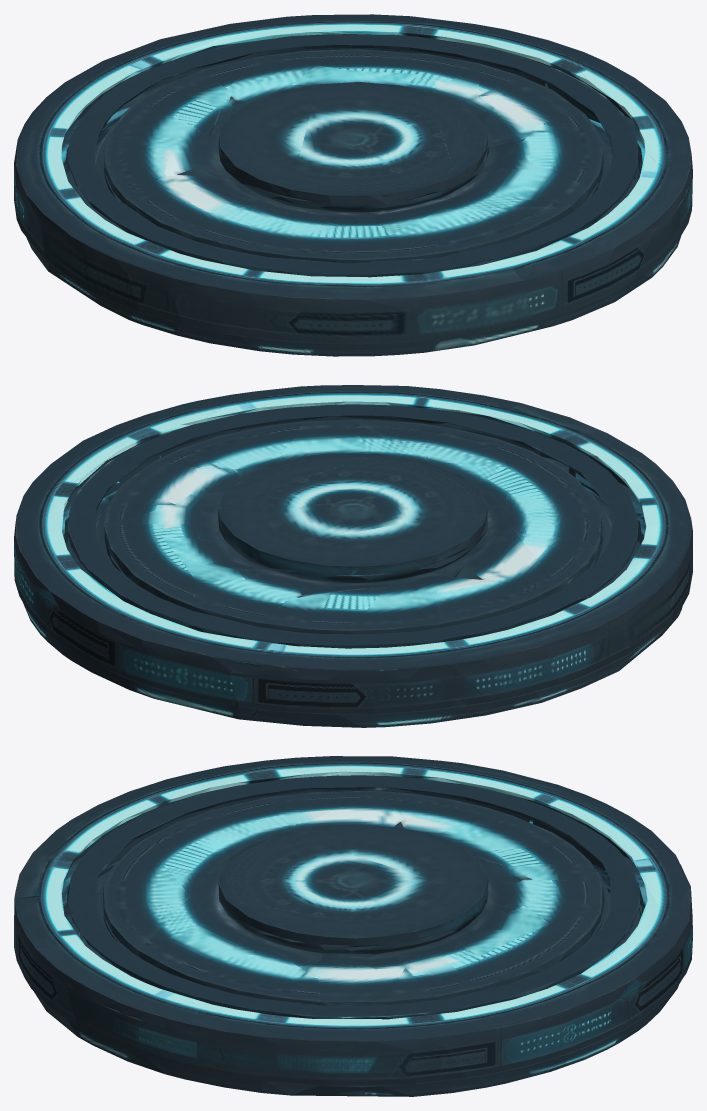
File: start-pad.glb
The picture shows the model from 3 angles, top to bottom: view 1: azimuth 30°, elevation 25°; view 2: azimuth 150°, elevation 25°; view 3: azimuth 270°, elevation 25°; orthographic projection.
Size of the model in its own units: 1.9 by 0.2412 by 1.9.
Materials: 1 (1 with a texture image).
